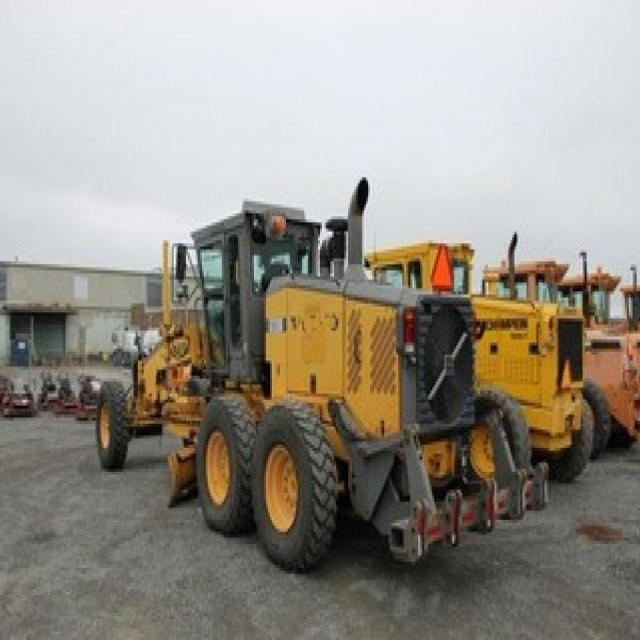Grader: (88, 189, 561, 584)
